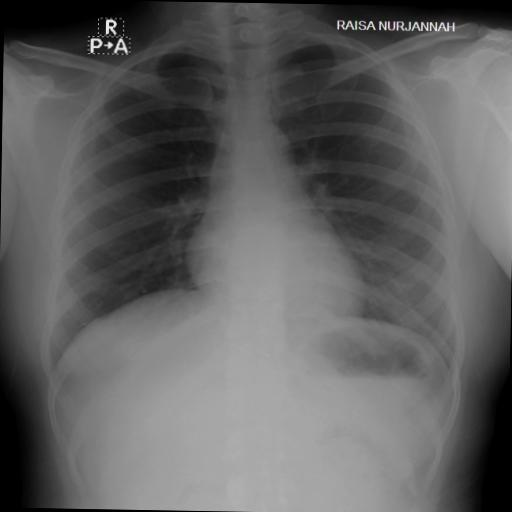normal: (36, 23, 470, 400)
